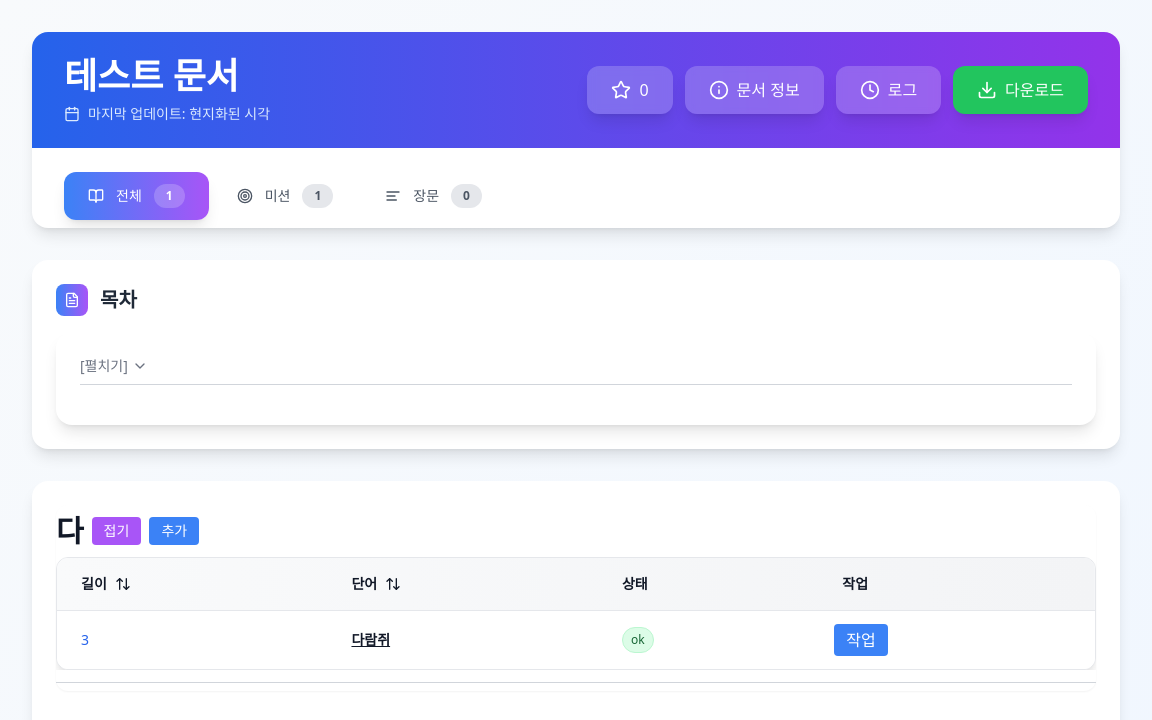
Test: DocsDataHome administrator removal completion integration › 사용자 삭제 요청 완료 뒤 content snapshot을 다시 받아 삭제 요청 상태를 표시한다
The width and height of the screenshot is (1152, 720).
Step 1. Click the button "작업" → (861, 640), box [834,624,888,656]
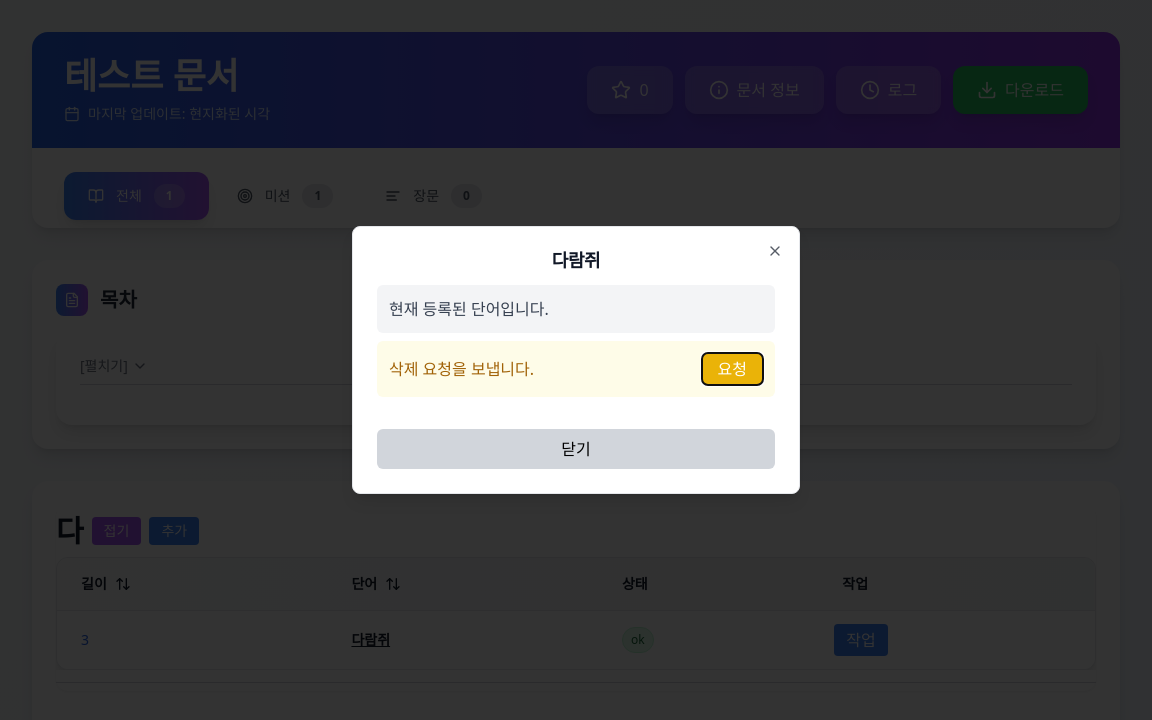
Step 2. Click the button with aria-label "삭제 요청을 보냅니다." → (732, 369), box [702,353,763,385]
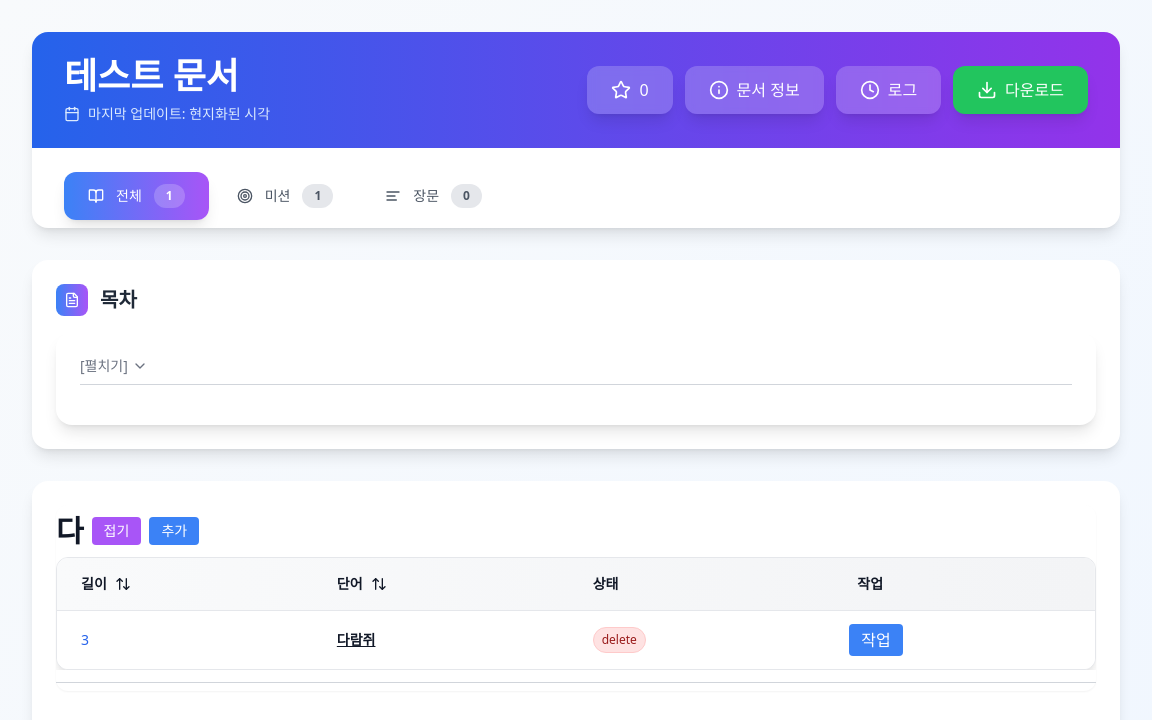
Result: the text "delete" is shown at [593,627,646,653]
Step 3. Click the button "작업" → (876, 640), box [849,624,903,656]
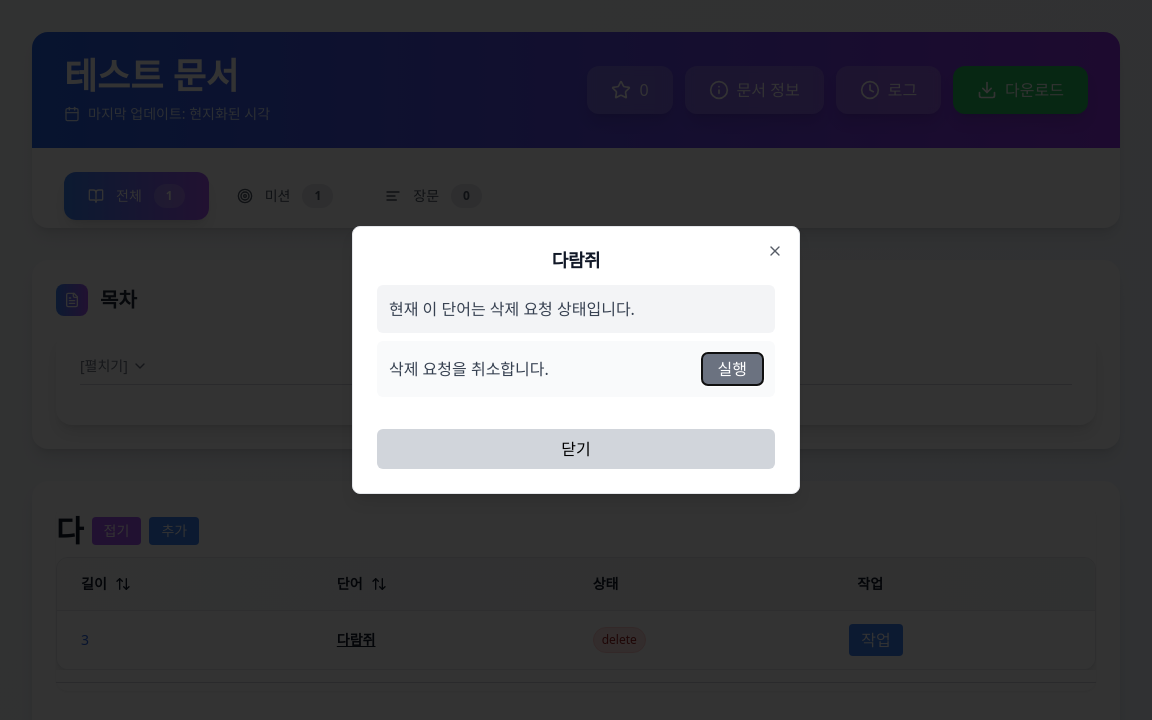
Result: the text "삭제 요청을 취소합니다." is shown at [389,357,549,381]
